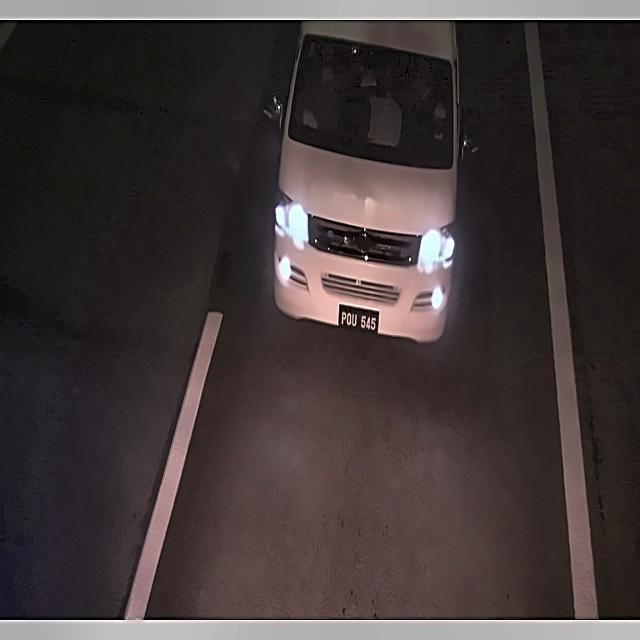car: (330, 298, 386, 340)
